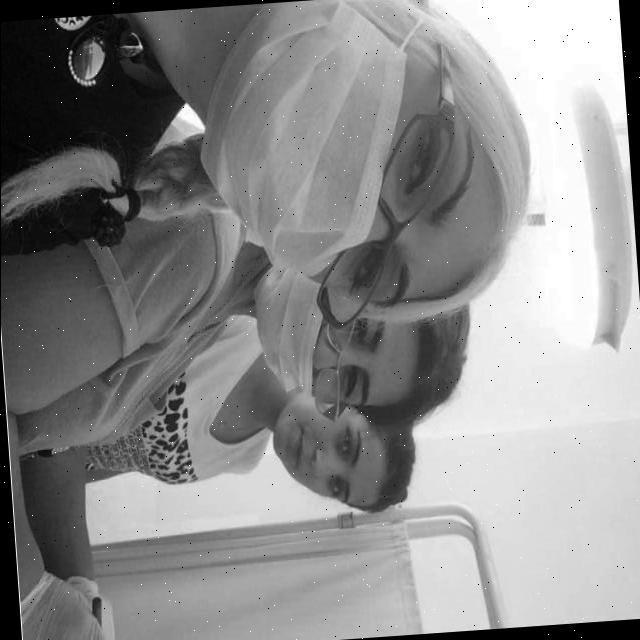mask: (228, 42, 356, 236), (248, 270, 320, 380)
no_gloves: (469, 73, 532, 254), (355, 423, 413, 509), (412, 316, 476, 392)
no_hairnet: (292, 424, 334, 492)
